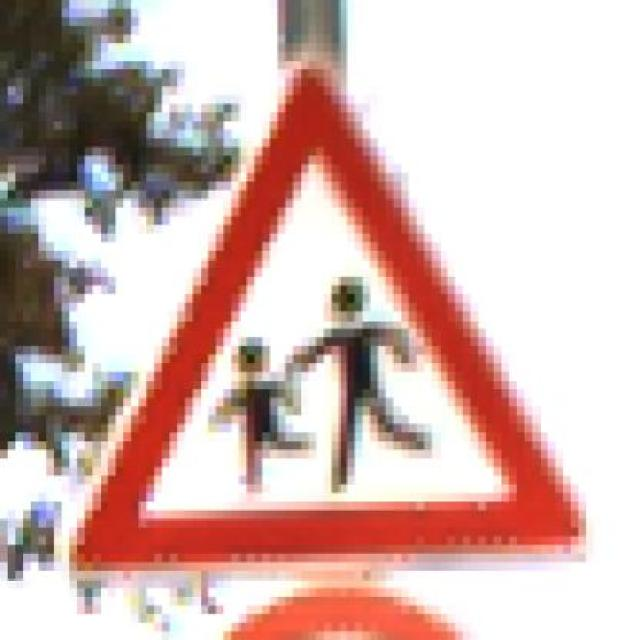Beware of children: (69, 60, 594, 580)
